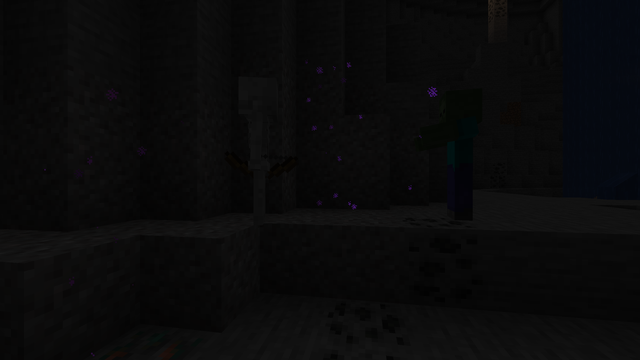squelettes: (229, 75, 285, 227)
zombies: (434, 90, 487, 221)
